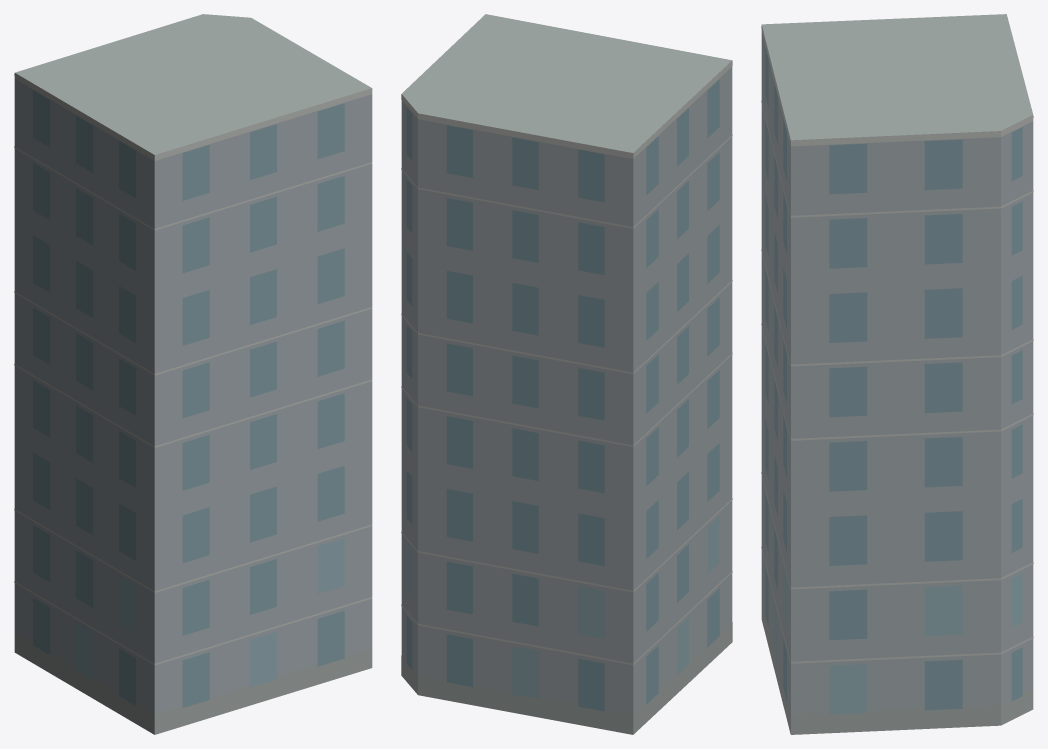
File: survey-upis-32653069.glb
3 views of the same model, side by side, from view 1: azimuth 30°, elevation 25°; view 2: azimuth 150°, elevation 25°; view 3: azimuth 270°, elevation 25° (orthographic). The views are drawn at different scales.
Parts seen in each view (by area): view 1: survey-upis-32653069.tmp; view 2: survey-upis-32653069.tmp; view 3: survey-upis-32653069.tmp.
Part boxes in pixels (x1,y1,x2,y2): survey-upis-32653069.tmp: (14, 14, 372, 734); survey-upis-32653069.tmp: (401, 14, 732, 734); survey-upis-32653069.tmp: (761, 14, 1033, 734).
Size of the model in its own units: 10.77 by 23.6 by 9.8.
